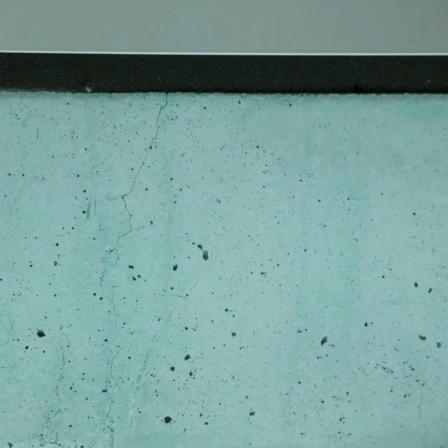crack: (96, 88, 175, 281), (94, 327, 131, 447), (92, 255, 125, 348)
